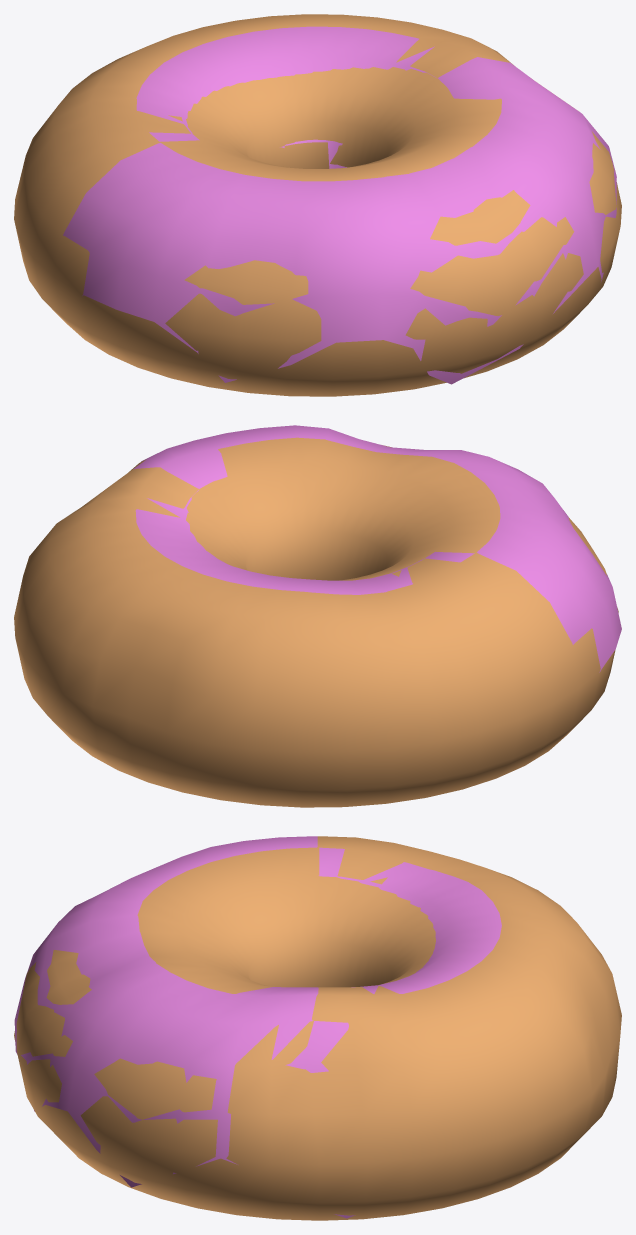
File: donut.glb
3 renders of one model, top to bottom at view 1: azimuth 30°, elevation 25°; view 2: azimuth 150°, elevation 25°; view 3: azimuth 270°, elevation 25°, orthographic.
Visible parts, largest first — view 1: DonutBase, Icing; view 2: DonutBase, Icing; view 3: DonutBase, Icing.
Boxes of the visible parts, <box> form: DonutBase: <box>14,14,621,396</box>; Icing: <box>63,26,617,384</box>; DonutBase: <box>14,437,618,807</box>; Icing: <box>133,425,621,672</box>; DonutBase: <box>14,836,621,1220</box>; Icing: <box>14,836,501,1218</box>.
Size of the model in its own units: 0.0996 by 0.0358 by 0.099.
